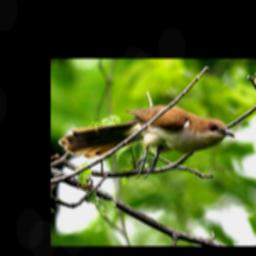Cuckoo: (57, 105, 236, 179)
